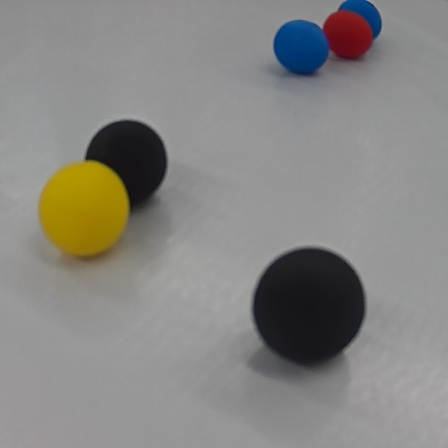black: (251, 245, 367, 363), (81, 117, 173, 198)
blue: (268, 19, 328, 79), (336, 0, 384, 44)
red: (322, 9, 371, 62)
yellow: (38, 158, 133, 259)
